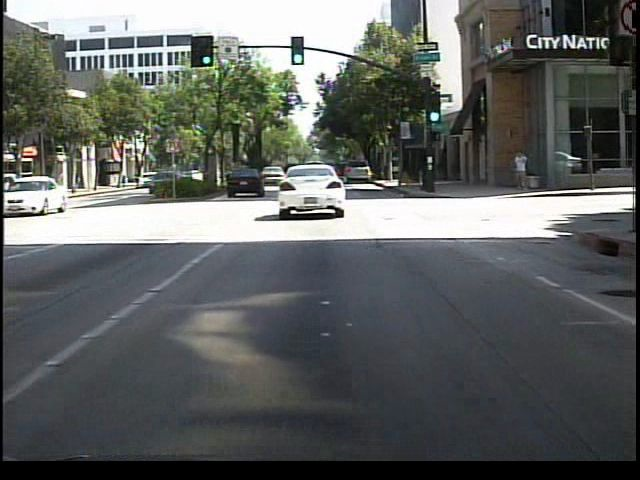person: (511, 149, 531, 197)
